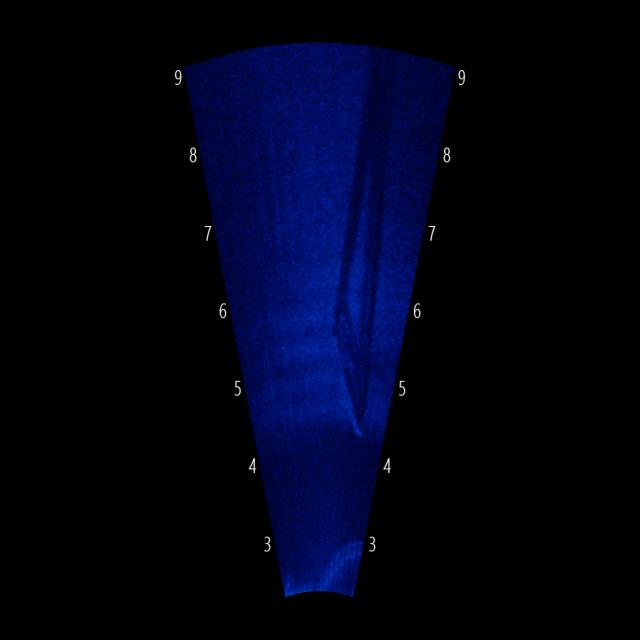triangle: (320, 60, 402, 456)
